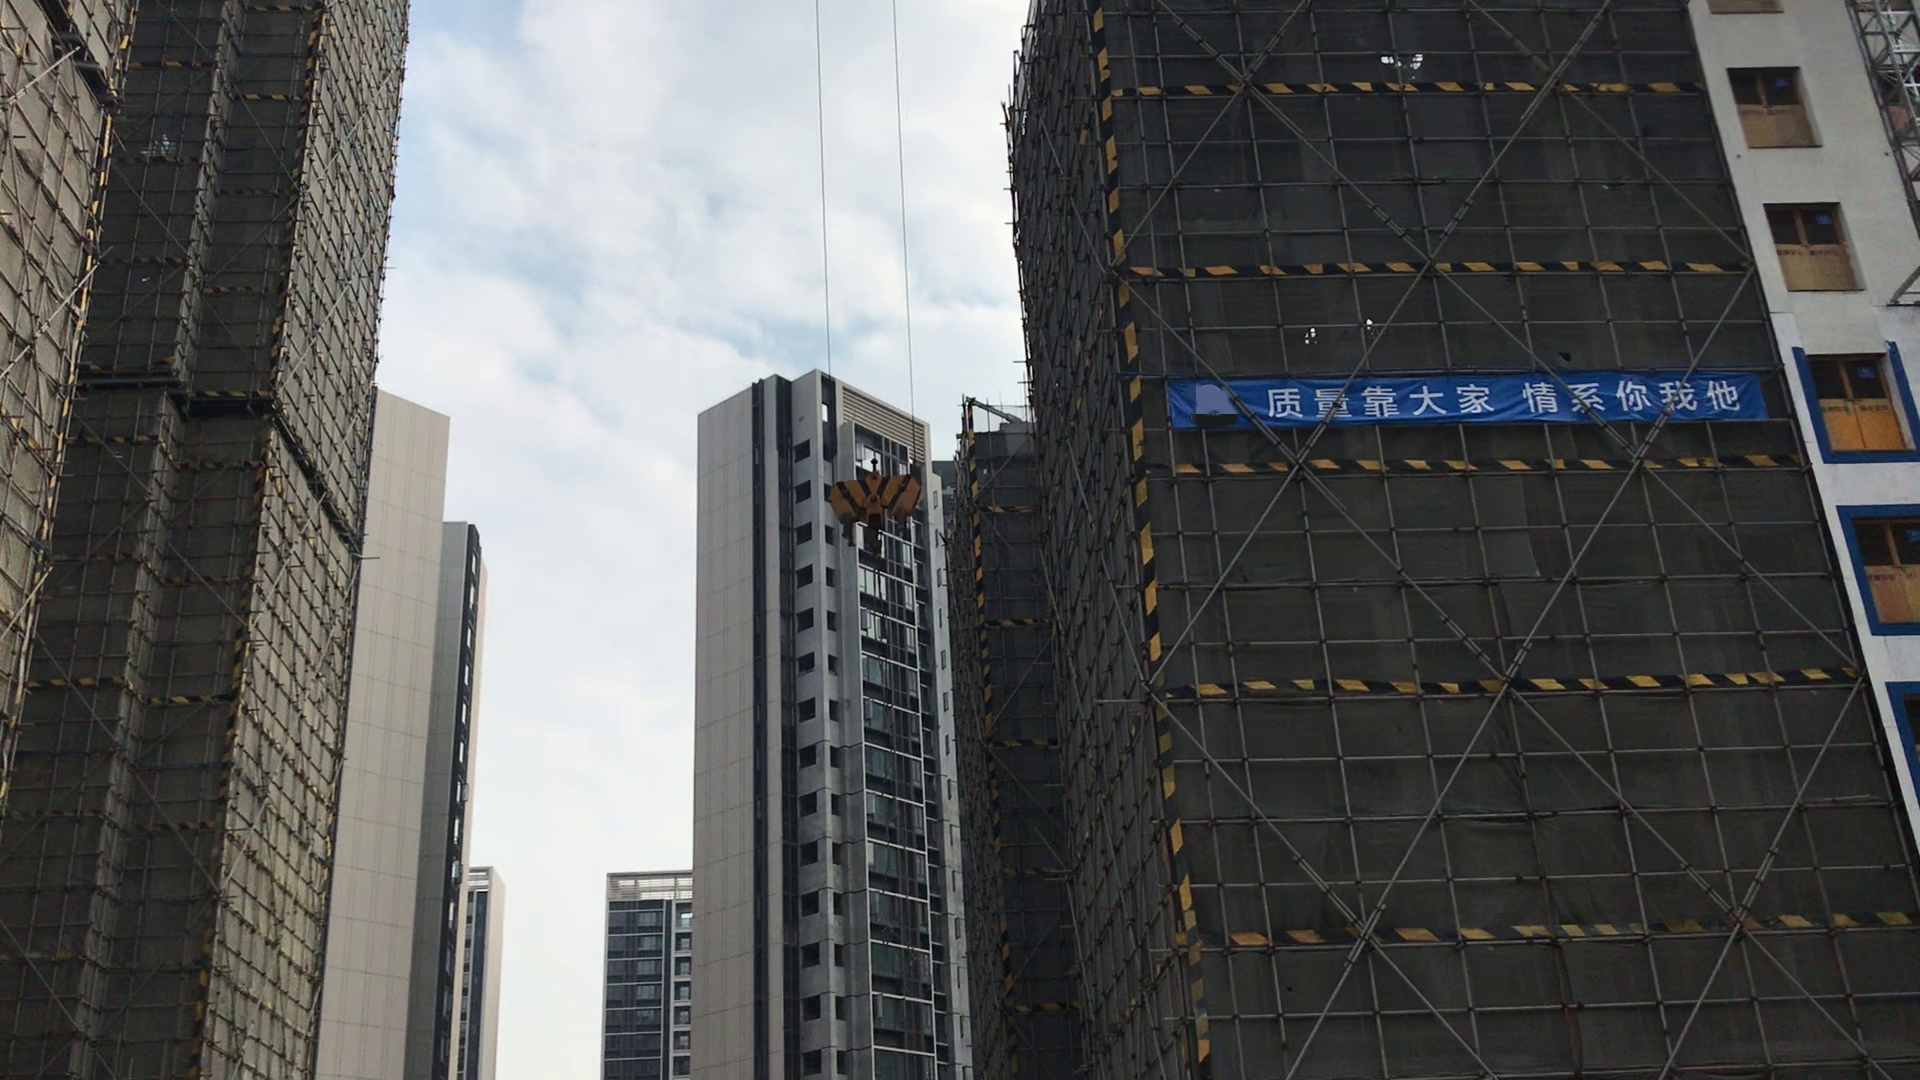hook: (822, 455, 926, 560)
slogan: (1176, 364, 1745, 430)
